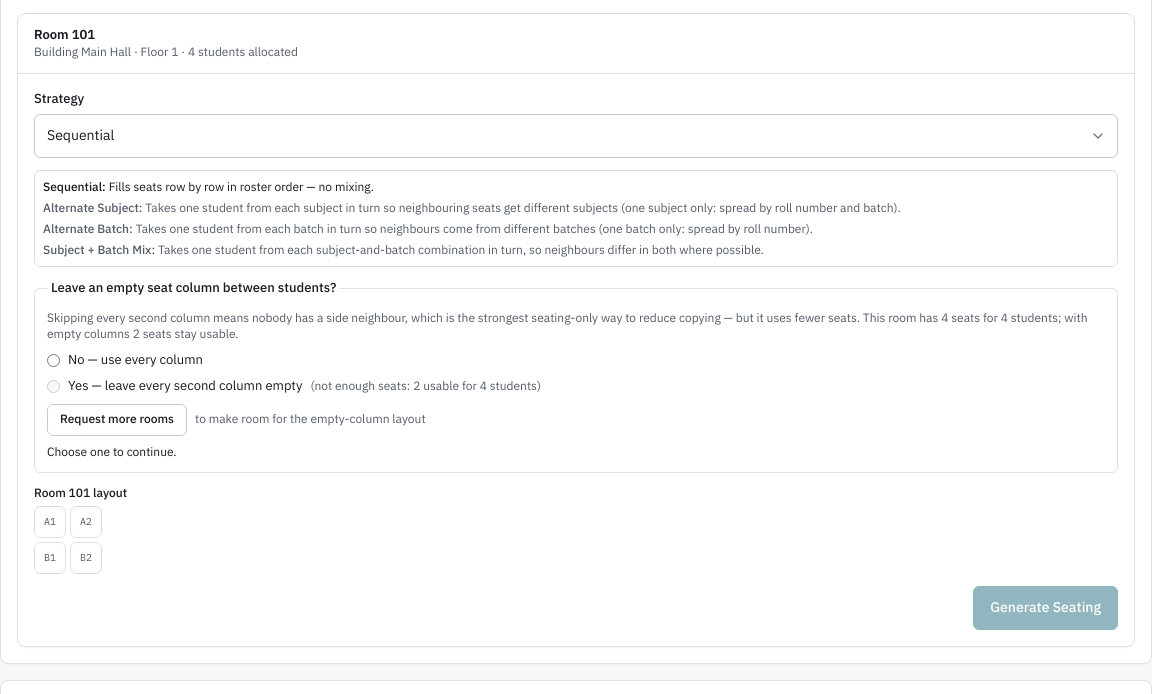
it: Seating generation › shows hard violations when generation fails
(page scrolled)
Click the radio button labelled "No — use every column" at (54, 360), box x1=47 y1=354 x2=60 y2=367
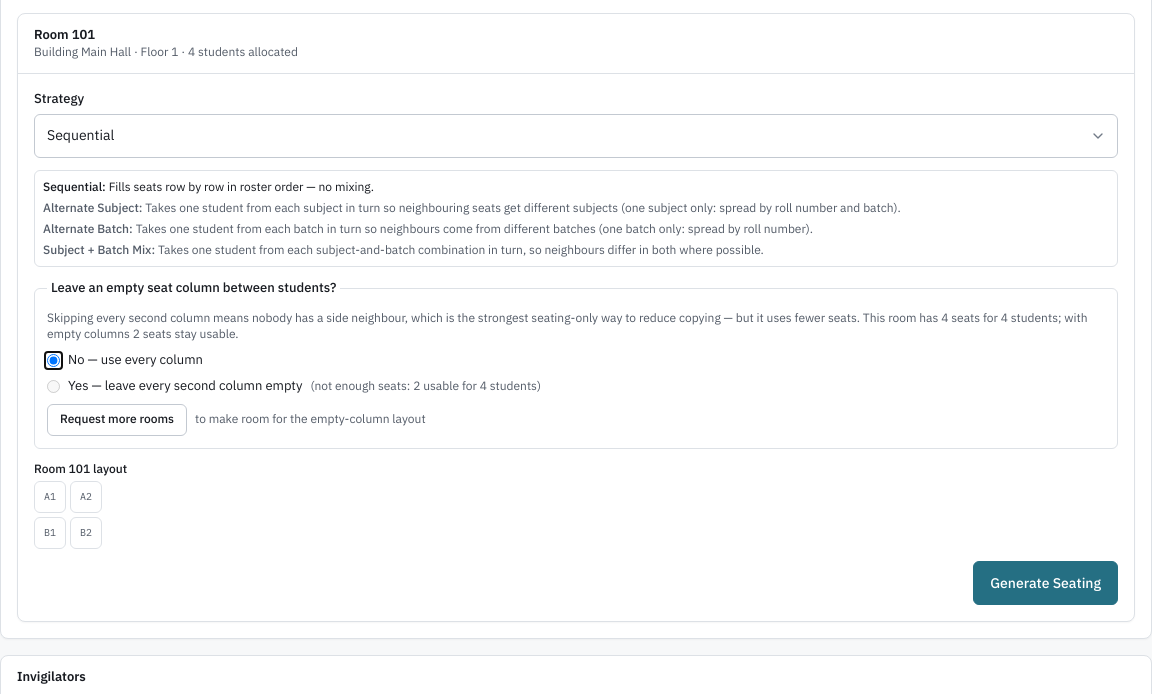
Click the button "Generate Seating" at (1046, 583), box x1=973 y1=561 x2=1118 y2=605
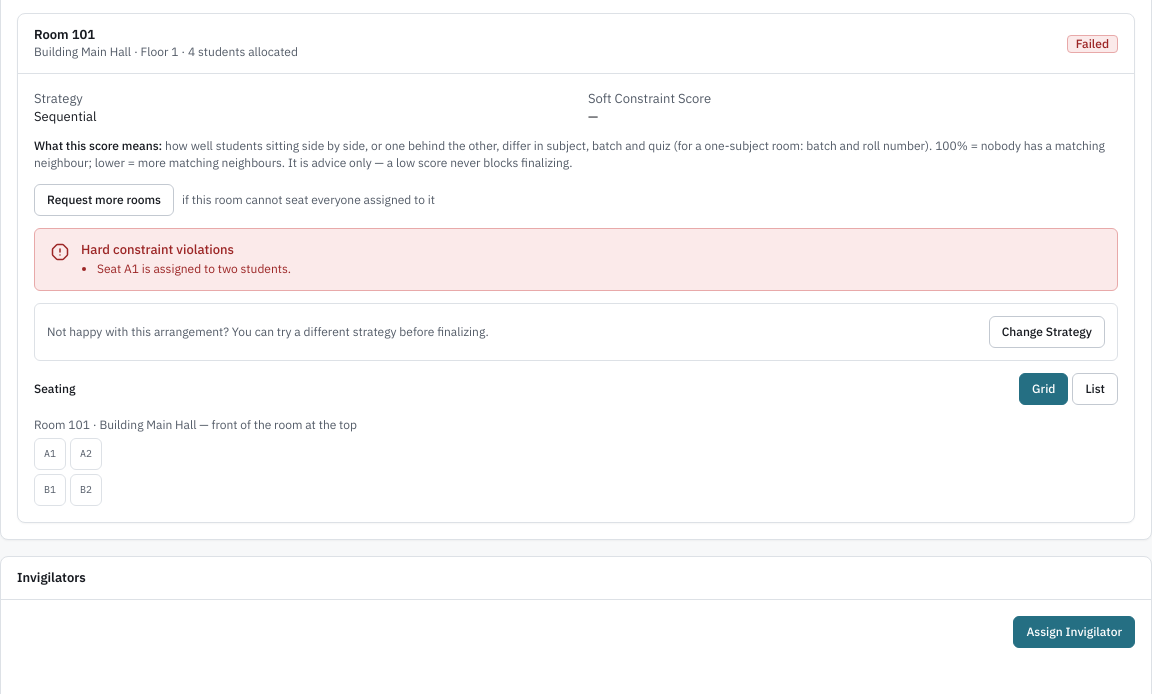
Expected: the text "Failed" is shown, x1=1067 y1=34 x2=1118 y2=52
Expected: the list item "Seat A1 is assigned to two students." is shown, x1=97 y1=261 x2=291 y2=276
